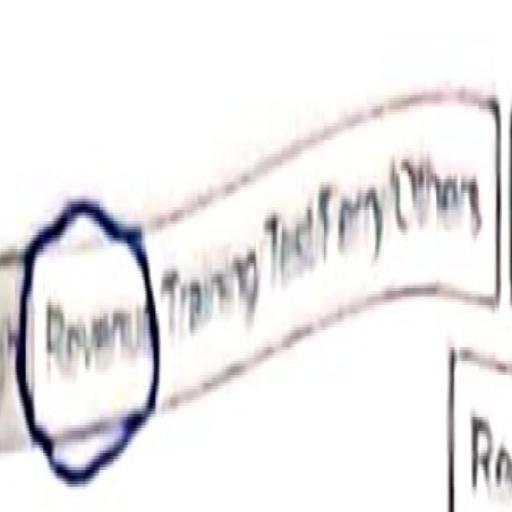check: (8, 167, 163, 468)
